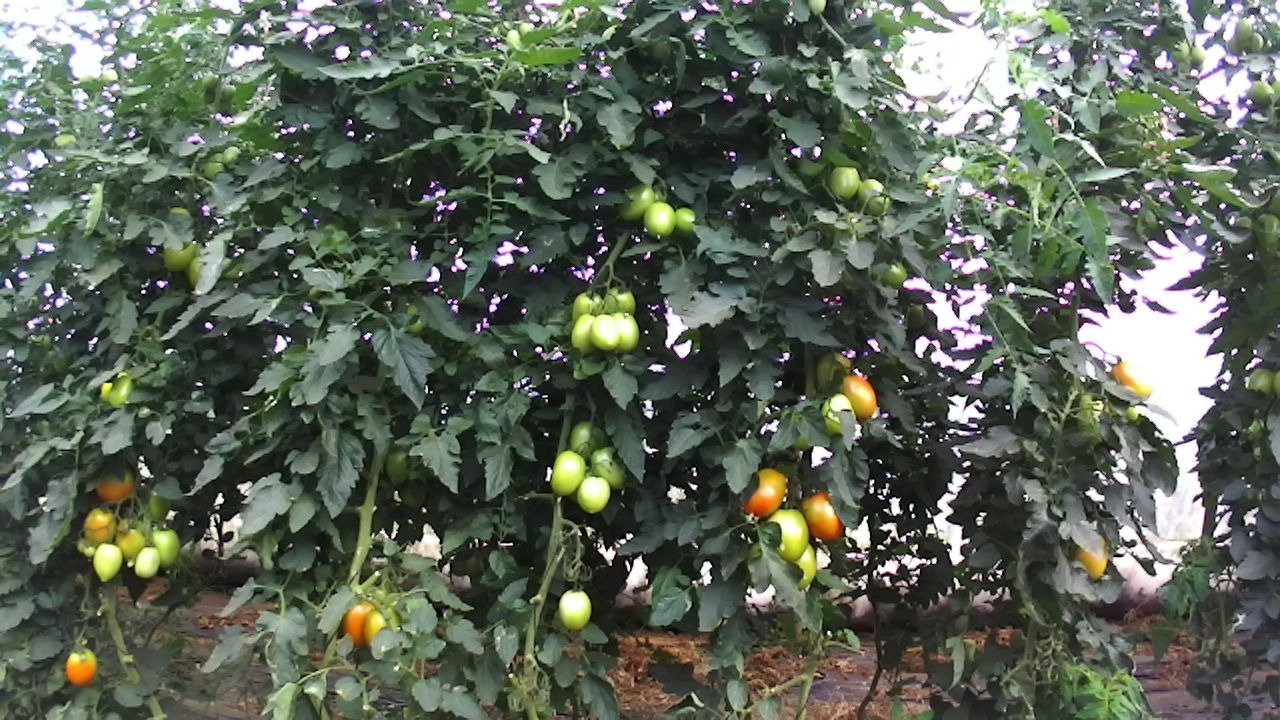tomato: (762, 506, 811, 565), (797, 486, 845, 545), (740, 466, 789, 517), (835, 371, 878, 421), (547, 446, 587, 498), (588, 444, 628, 492), (340, 597, 374, 650), (556, 585, 593, 633), (615, 181, 655, 223), (62, 644, 99, 689), (574, 473, 612, 516), (82, 504, 118, 548), (587, 312, 624, 354), (148, 526, 182, 570), (642, 199, 678, 240), (609, 310, 641, 355), (92, 540, 124, 584), (570, 288, 606, 327), (569, 312, 600, 357), (827, 163, 861, 202), (602, 283, 637, 317), (133, 543, 162, 582), (106, 373, 136, 409), (672, 204, 703, 238), (1244, 78, 1276, 106), (880, 259, 908, 287), (1168, 37, 1190, 64), (1233, 14, 1252, 44), (1189, 43, 1206, 66)
